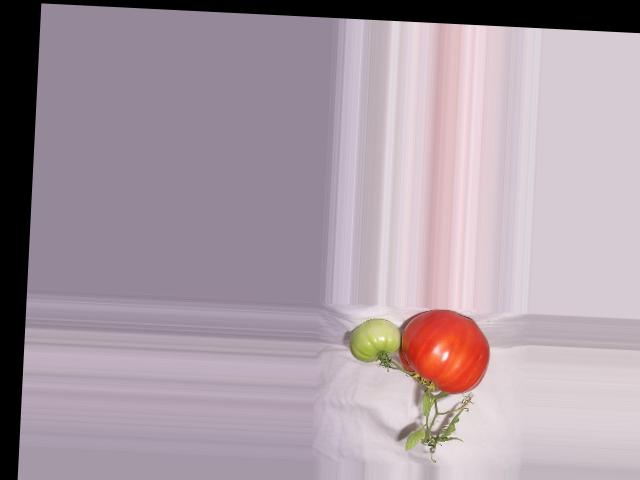tomato: (396, 308, 491, 395)
